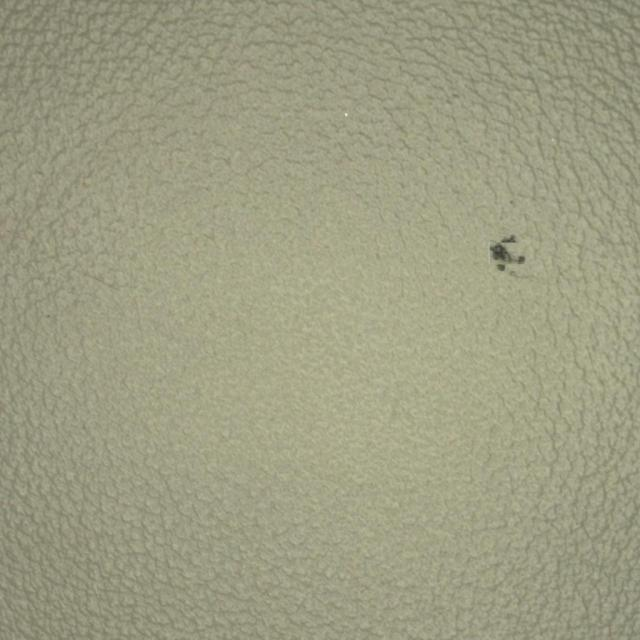Hole: (375, 192, 600, 316)
